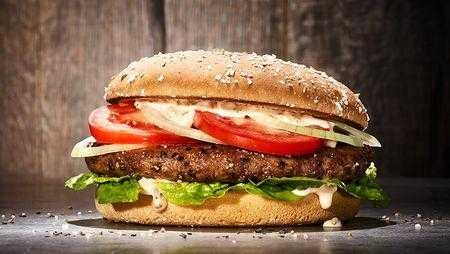hamburger: (67, 53, 390, 224)
